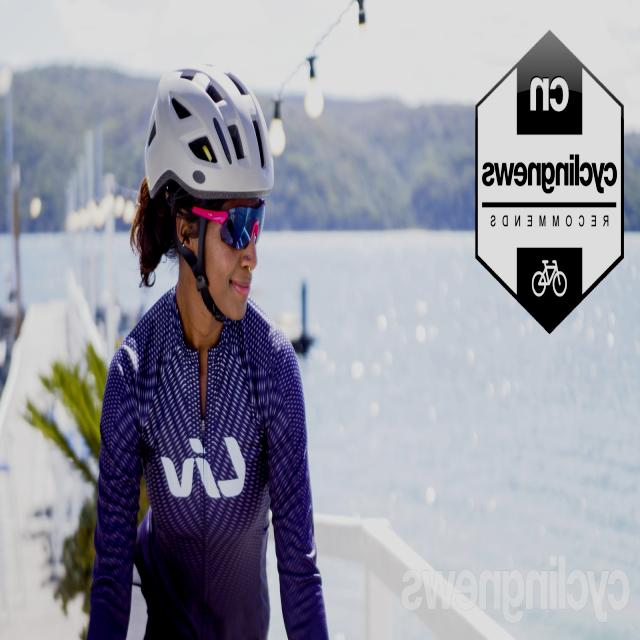helmet: (145, 65, 274, 200)
